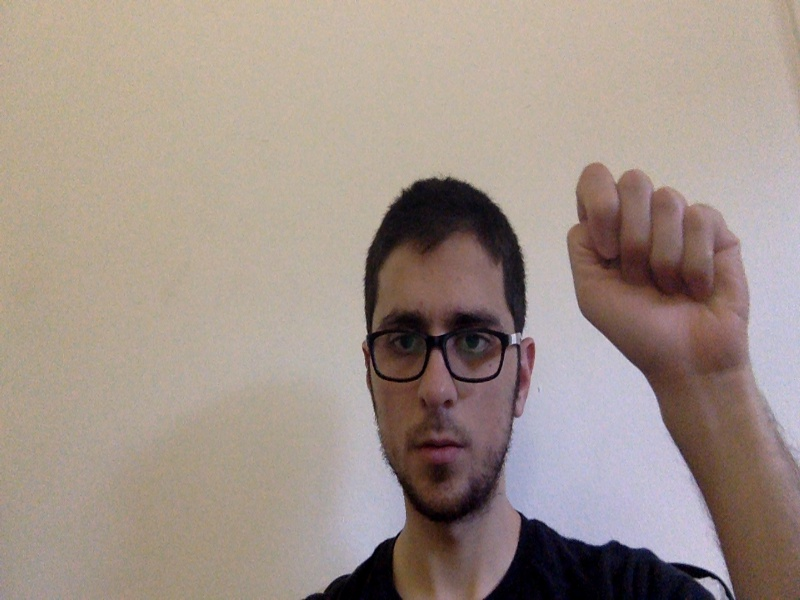0-hand: (567, 163, 750, 379)
